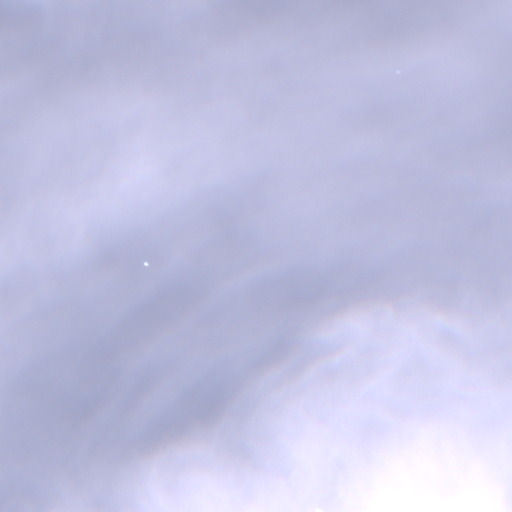Iceberg: (144, 262, 148, 265), (396, 71, 398, 72)
